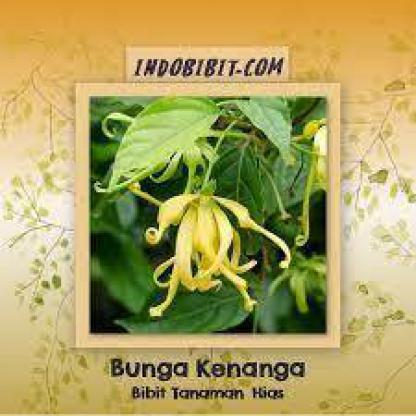Kenanga: (153, 188, 271, 302)
